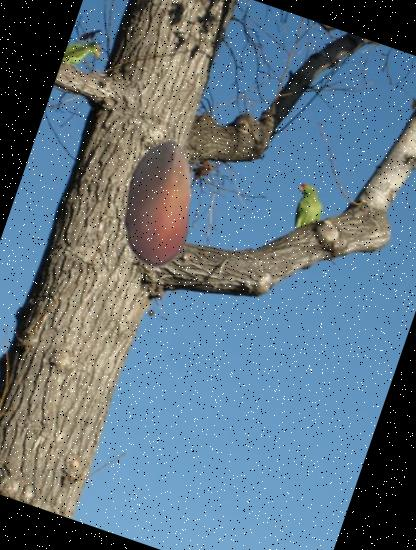Hazelnut: (75, 120, 242, 287)
